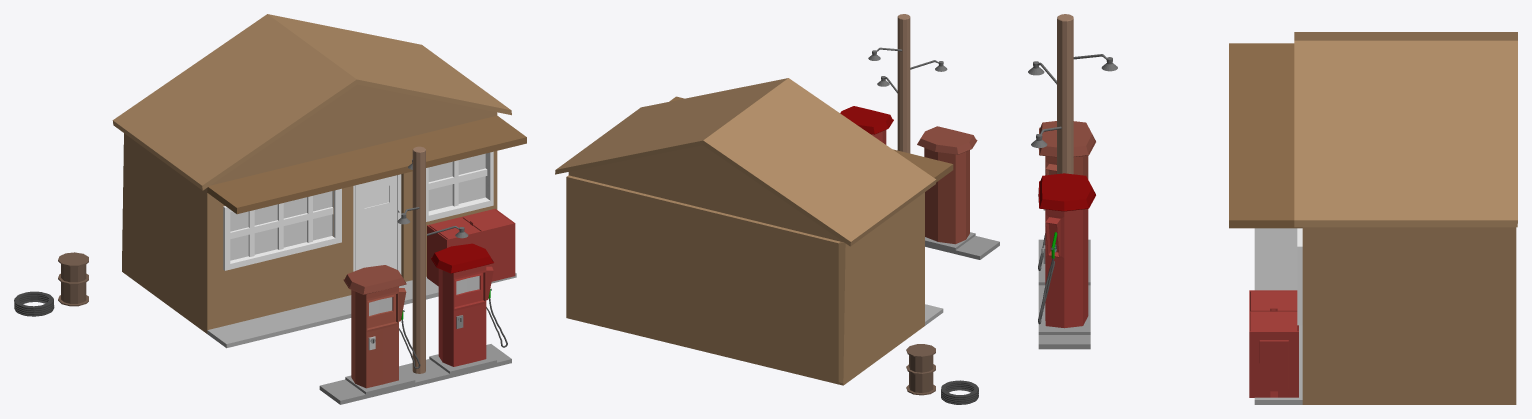
File: GasStation_5.fbx
3 renders of one model, left to right at view 1: azimuth 30°, elevation 25°; view 2: azimuth 150°, elevation 25°; view 3: azimuth 270°, elevation 25°, orthographic. The views are drawn at different scales.
Parts seen in each view (by area): view 1: GasStation_5_Body, GasStation_5_Stand_All, GasStation_5_Door, GasStation_5_Decorate.001, GasStation_5_Window, GasStation_5_Window.001, GasStation_5_Decorate.002, GasStation_5_Decorate; view 2: GasStation_5_Body, GasStation_5_Stand_All, GasStation_5_Decorate.002, GasStation_5_Decorate; view 3: GasStation_5_Body, GasStation_5_Stand_All, GasStation_5_Decorate.001.
Boxes of the visible parts, <box> form: GasStation_5_Body: <box>112,14,526,348</box>; GasStation_5_Stand_All: <box>319,146,511,404</box>; GasStation_5_Door: <box>353,174,401,274</box>; GasStation_5_Decorate.001: <box>427,208,515,286</box>; GasStation_5_Window: <box>230,191,332,260</box>; GasStation_5_Window.001: <box>428,153,485,211</box>; GasStation_5_Decorate.002: <box>58,252,88,306</box>; GasStation_5_Decorate: <box>14,291,54,316</box>; GasStation_5_Body: <box>555,78,953,385</box>; GasStation_5_Stand_All: <box>840,14,999,259</box>; GasStation_5_Decorate.002: <box>906,344,935,395</box>; GasStation_5_Decorate: <box>941,380,978,404</box>; GasStation_5_Body: <box>1229,32,1517,404</box>; GasStation_5_Stand_All: <box>1028,14,1117,349</box>; GasStation_5_Decorate.001: <box>1249,290,1298,397</box>.
Bounding box in the file's own units: 920 × 469 × 737.
